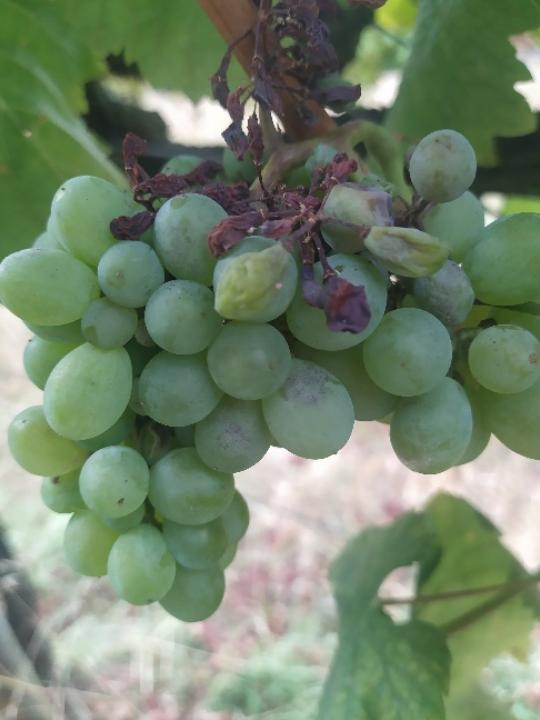grape: (0, 0, 540, 624)
